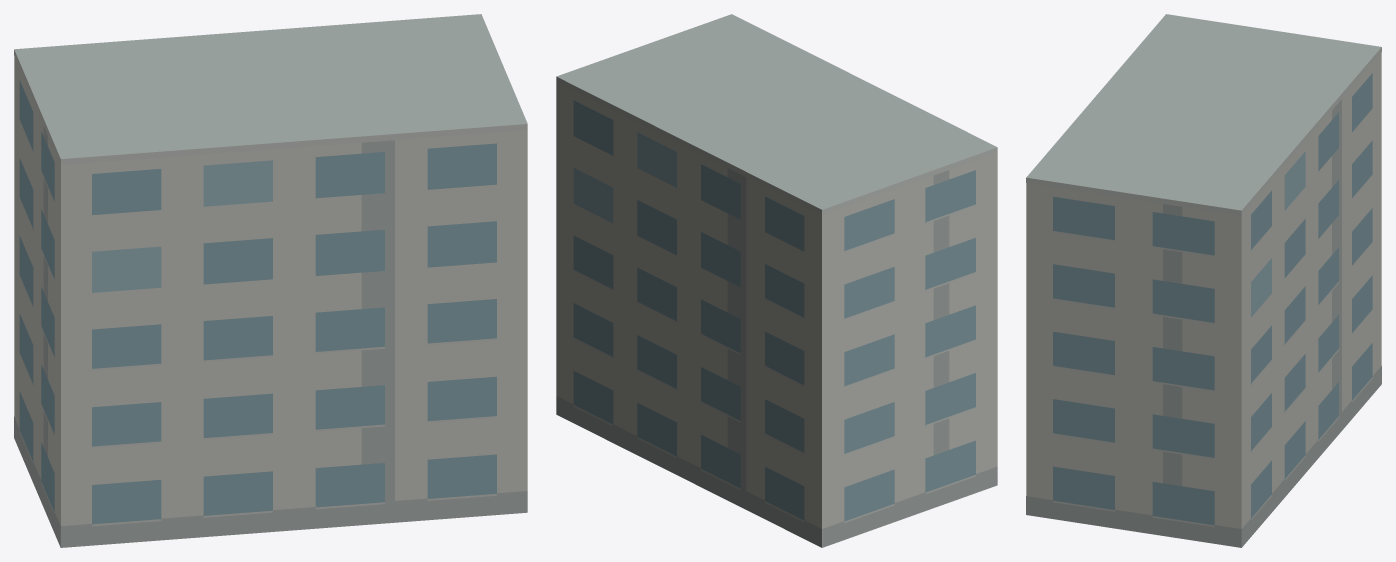
Rendered from residential-0f5fb2f5-8513-42e9-8bd8-2b4ae9e6e60f.glb.
The picture shows the model from 3 angles, left to right: view 1: azimuth 30°, elevation 25°; view 2: azimuth 150°, elevation 25°; view 3: azimuth 270°, elevation 25°; orthographic projection. The views are drawn at different scales.
Visible parts, largest first — view 1: residential-0f5fb2f5-8513-42e9-8bd8-2b4ae9e6e60f.tmp; view 2: residential-0f5fb2f5-8513-42e9-8bd8-2b4ae9e6e60f.tmp; view 3: residential-0f5fb2f5-8513-42e9-8bd8-2b4ae9e6e60f.tmp.
Boxes of the visible parts, box(x1,y1,x2,y2) form: residential-0f5fb2f5-8513-42e9-8bd8-2b4ae9e6e60f.tmp: box(14, 14, 527, 547); residential-0f5fb2f5-8513-42e9-8bd8-2b4ae9e6e60f.tmp: box(556, 14, 997, 547); residential-0f5fb2f5-8513-42e9-8bd8-2b4ae9e6e60f.tmp: box(1026, 14, 1381, 547).
Bounding box in the file's own units: 19.07 × 15.25 × 14.58.
